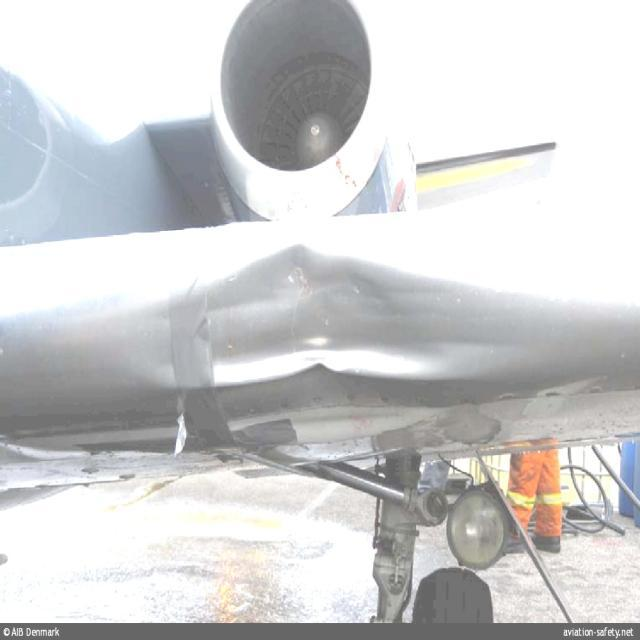dent: (161, 239, 484, 392)
